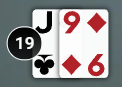9: (61, 10, 83, 36)
j: (35, 9, 55, 36)
